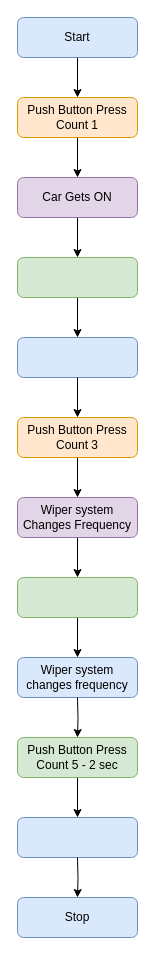
This 155x955 diagram has some shape labels left out. The centre of each missing label's shape, as x and y in pixels:
"Car gets OFF" goes at point 77,837.
"Push Button Press Count 2" goes at point 77,277.
"Push Button Press Count 4" goes at point 77,597.
"Wiper system gets ON" goes at point 77,357.
